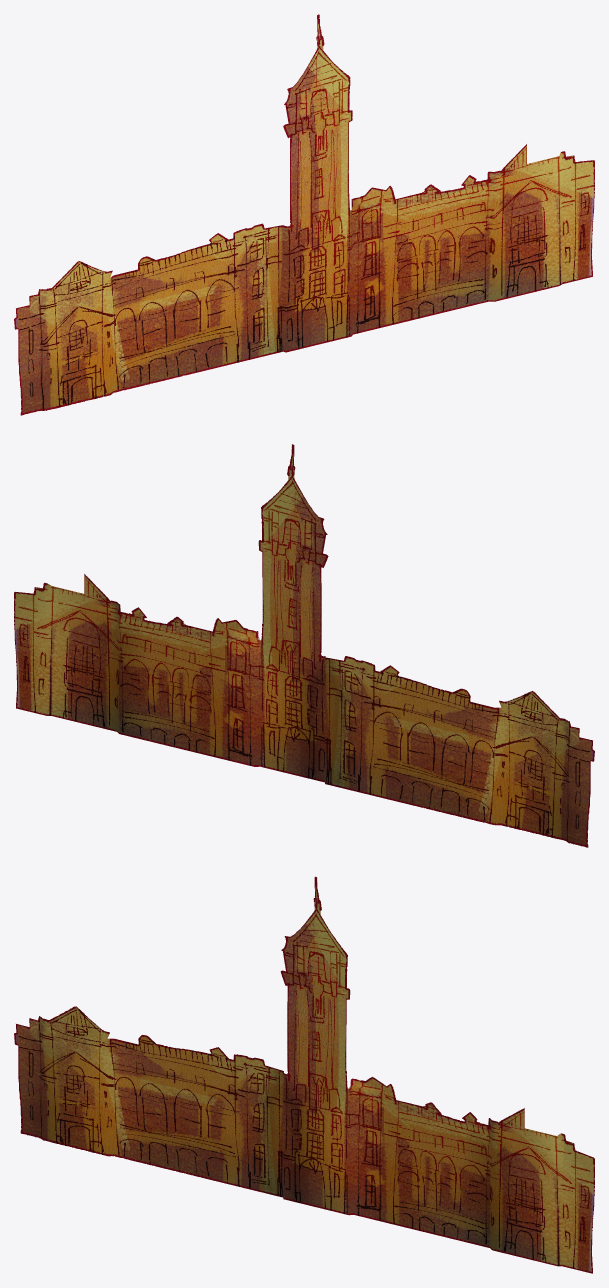
The model's file is presidential palace.fbx.
3 renders of one model, top to bottom at view 1: azimuth 30°, elevation 25°; view 2: azimuth 150°, elevation 25°; view 3: azimuth 330°, elevation 25°, orthographic.
Visible parts, largest first — view 1: presidential palace; view 2: presidential palace; view 3: presidential palace.
Boxes of the visible parts, bbox=[...] form: presidential palace: bbox=[14, 14, 594, 415]; presidential palace: bbox=[14, 444, 594, 847]; presidential palace: bbox=[14, 876, 594, 1273].
Size of the model in its own units: 266 by 145 by 1.29.
1 material, 1 textured.
